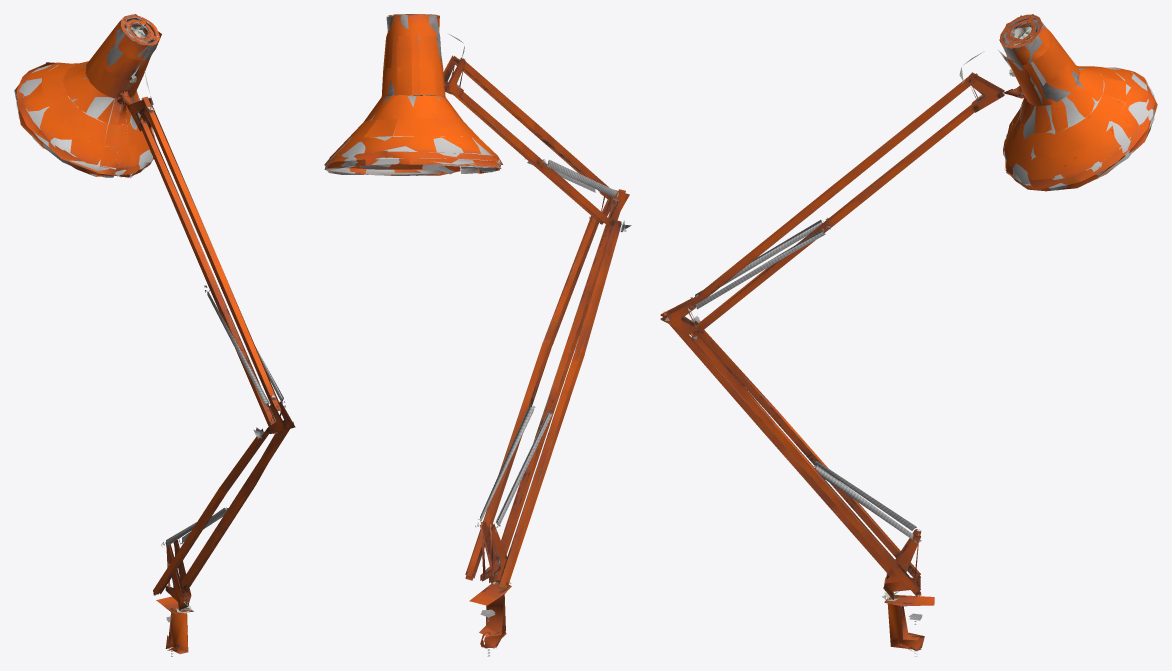
Rendered from desk_lamp_arm_01.glb.
3 views of the same model, side by side, from view 1: azimuth 30°, elevation 25°; view 2: azimuth 150°, elevation 25°; view 3: azimuth 270°, elevation 25° (orthographic). The views are drawn at different scales.
Parts seen in each view (by area): view 1: desk_lamp_arm_01; view 2: desk_lamp_arm_01; view 3: desk_lamp_arm_01.
Boxes of the visible parts, x1=… form: desk_lamp_arm_01: x1=14, y1=14, x2=295, y2=656; desk_lamp_arm_01: x1=324, y1=14, x2=631, y2=656; desk_lamp_arm_01: x1=660, y1=14, x2=1157, y2=656.
Bounding box in the file's own units: 0.2048 × 0.8806 × 0.6157.
Materials: 2 (2 with a texture image).
